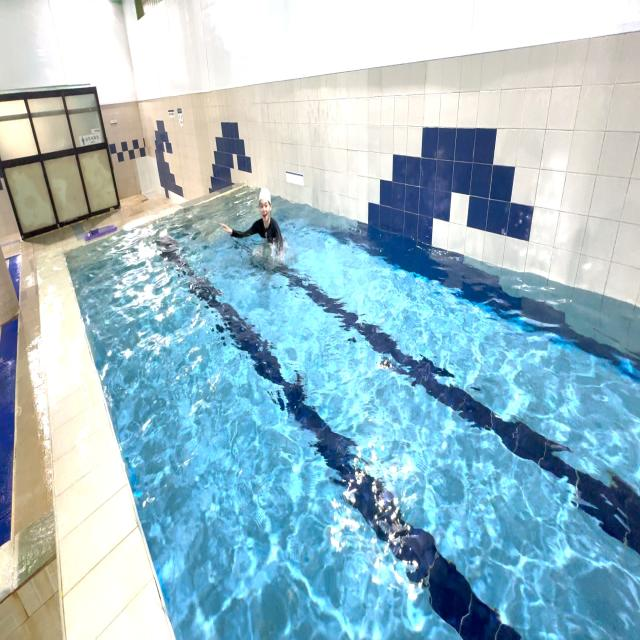Swimming: (218, 182, 286, 264)
